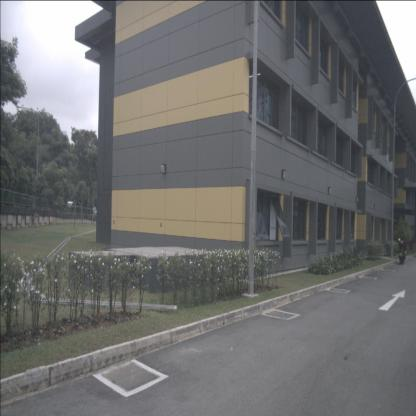vehicle-motorcycle: (398, 235, 407, 265)
